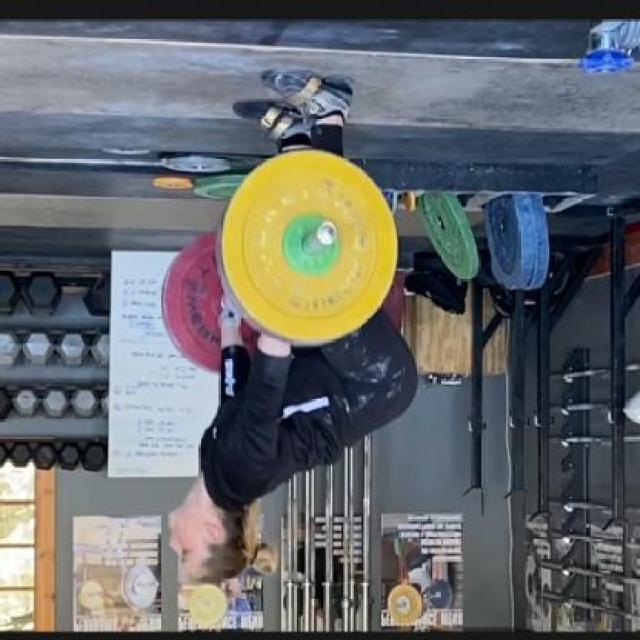Barbell: (314, 217, 340, 248)
